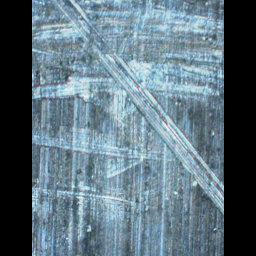d: (32, 0, 224, 101), (33, 123, 164, 232), (152, 113, 224, 221)
